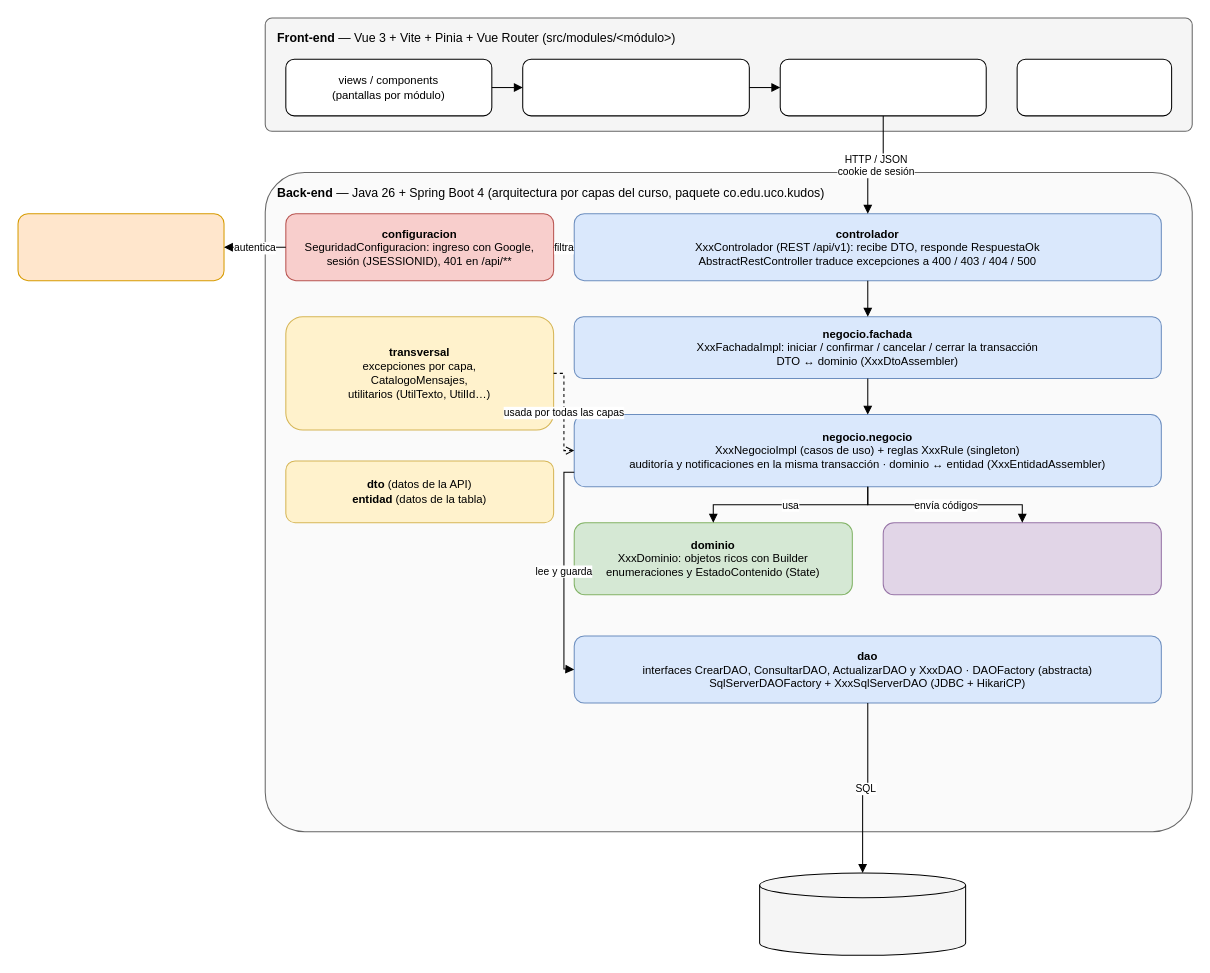
Some shapes in this 1210 by 973 pixel diagram are drawn without their labels. The shapes that lost their labels are listed below. From the top down, each one's centre as x and y in pixels, then its label:
the point at 635,87: stores (Pinia) sesión, solicitudes, notificaciones
the point at 882,87: services + api/http.js llamadas REST (JSON) y adaptadores
the point at 1094,87: router rutas protegidas por rol
the point at 120,247: Google OAuth2 / OpenID Connect (¿quién eres?)
the point at 1021,558: negocio.enviador EnviadorNotificacion (interfaz) → EnviadorNotificacionSimulado
the point at 862,913: SQL Server base Kudos (16 tablas)
